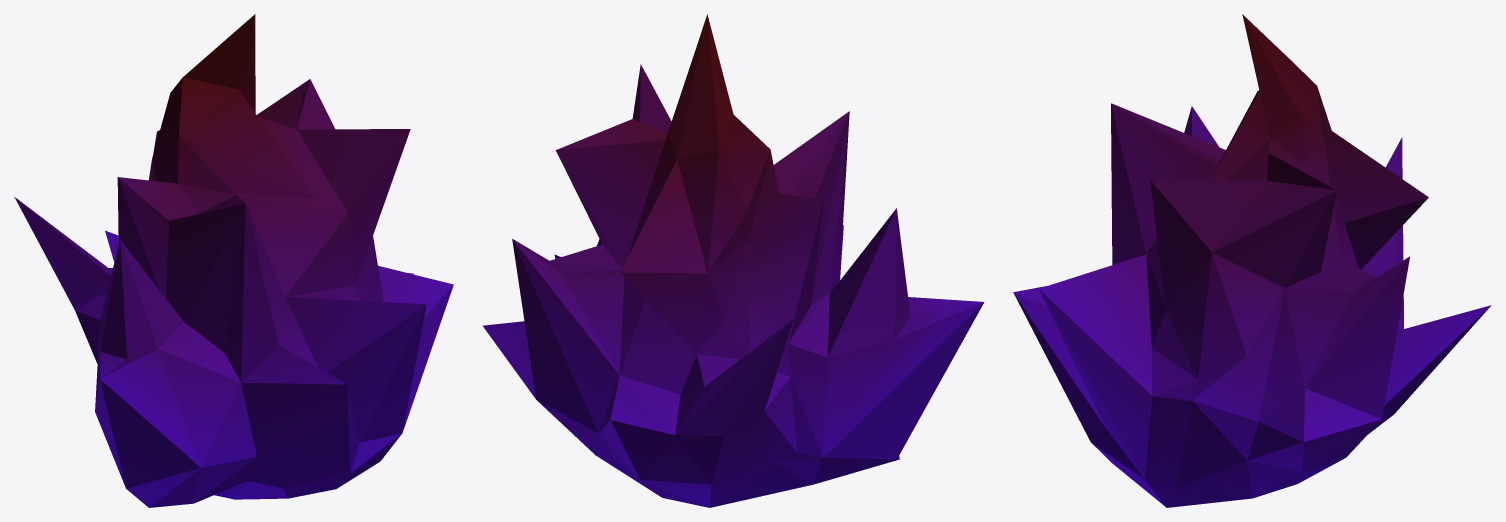
Rendered from Plant_4.fbx.
3 renders of one model, left to right at view 1: azimuth 30°, elevation 25°; view 2: azimuth 150°, elevation 25°; view 3: azimuth 270°, elevation 25°, orthographic. The views are drawn at different scales.
Visible parts, largest first — view 1: SM_Plant_Bush_01; view 2: SM_Plant_Bush_01; view 3: SM_Plant_Bush_01.
Part boxes in pixels (box(x1,y1,x2,y2)): SM_Plant_Bush_01: box(14, 14, 453, 507); SM_Plant_Bush_01: box(483, 14, 984, 507); SM_Plant_Bush_01: box(1013, 14, 1491, 507).
Size of the model in its own units: 211 by 234 by 214.
